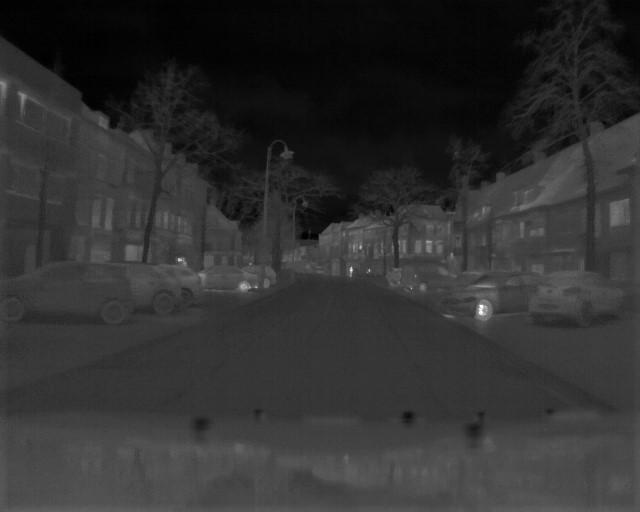car: (1, 260, 144, 328), (526, 270, 629, 324), (437, 271, 546, 321), (189, 265, 259, 296), (399, 264, 459, 295)
